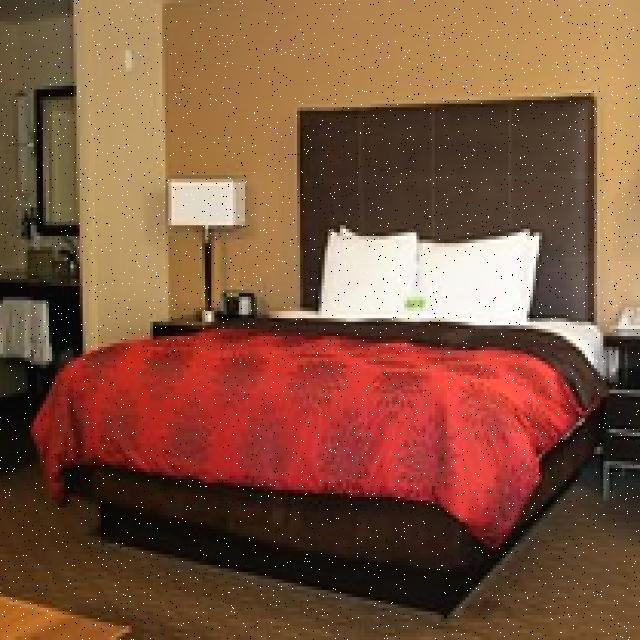bed: (66, 227, 588, 545)
